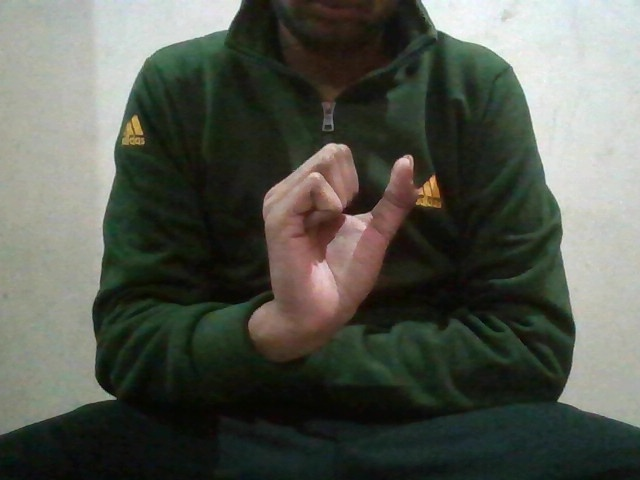S: (243, 142, 422, 348)
